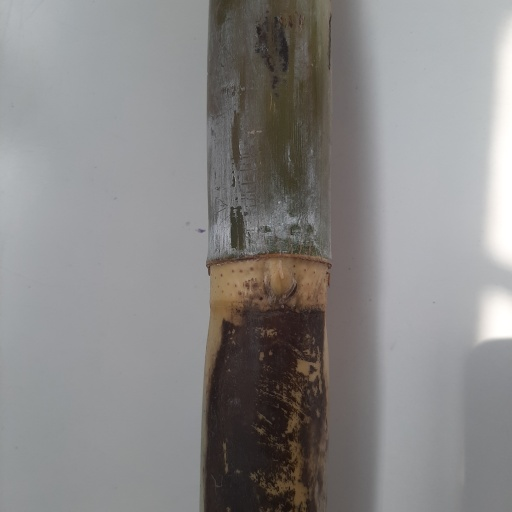Bud: (266, 261, 296, 301)
